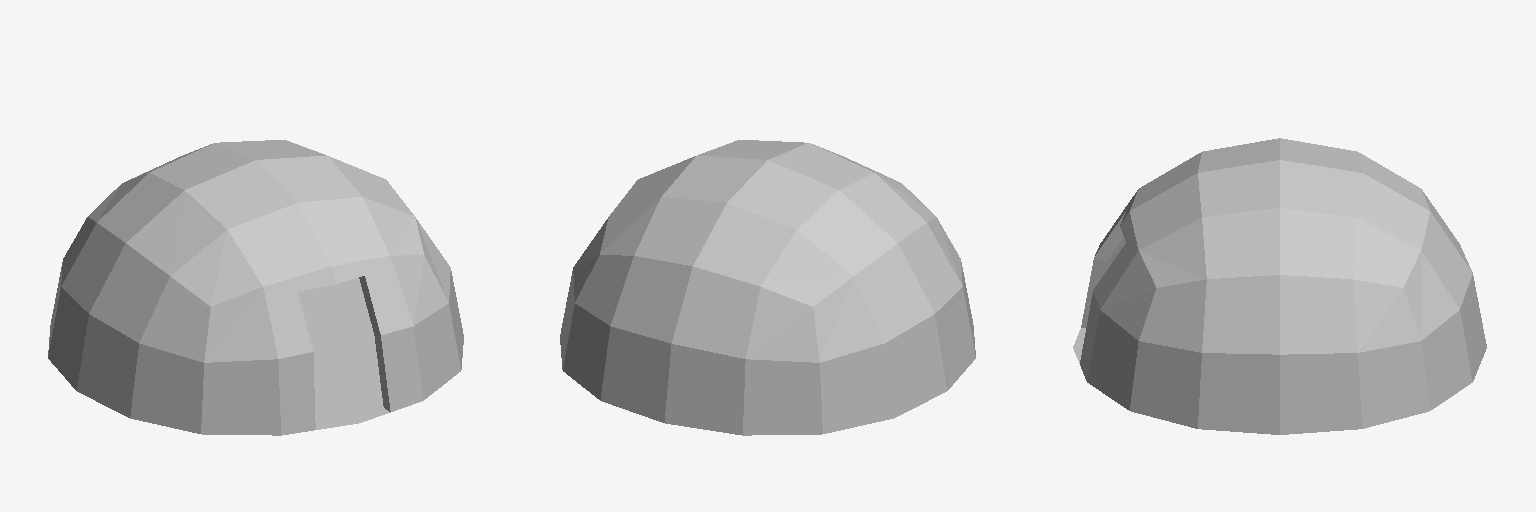
File: Igloo.obj
3 renders of one model, left to right at view 1: azimuth 30°, elevation 25°; view 2: azimuth 150°, elevation 25°; view 3: azimuth 270°, elevation 25°, orthographic.
Visible parts, largest first — view 1: Cube; view 2: Cube; view 3: Cube.
Boxes of the visible parts, x1,y1,x2,y2 form: Cube: [48, 140, 463, 435]; Cube: [560, 140, 975, 435]; Cube: [1073, 138, 1486, 434].
Size of the model in its own units: 6.28 by 3.21 by 6.28.